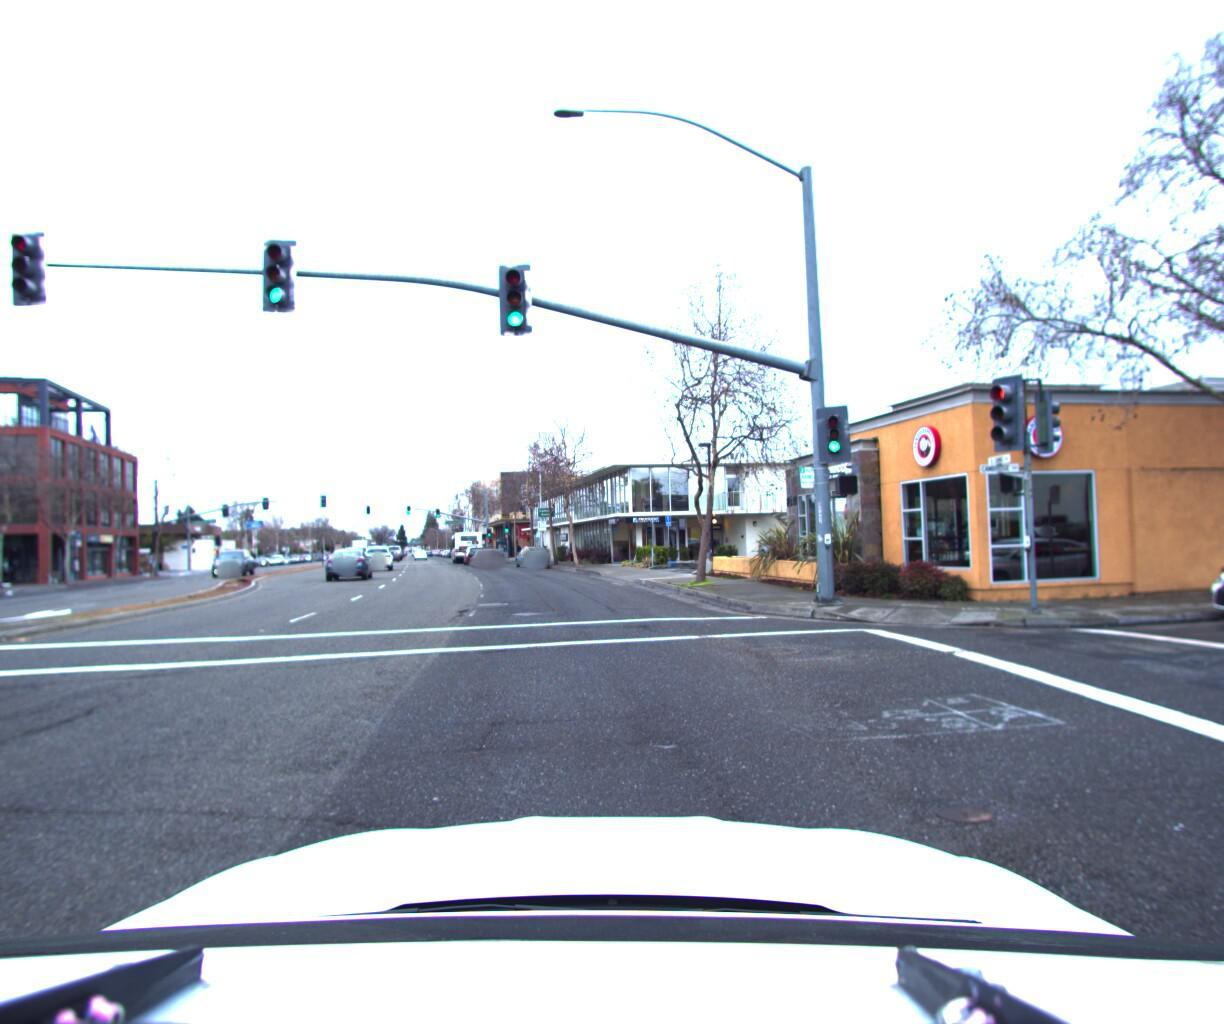bus: (452, 531, 485, 564)
car: (1181, 523, 1224, 635), (328, 550, 382, 585), (215, 550, 264, 579), (0, 549, 9, 660), (517, 546, 553, 571), (365, 545, 396, 573), (471, 548, 502, 568)
